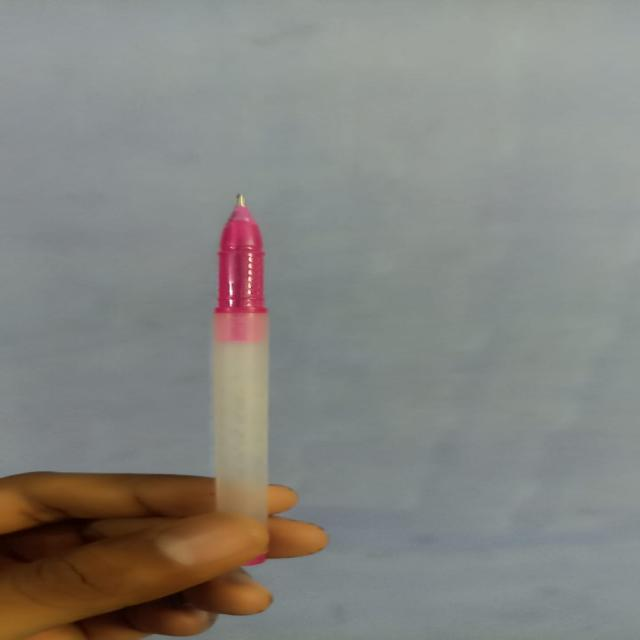pen: (191, 183, 298, 583)
